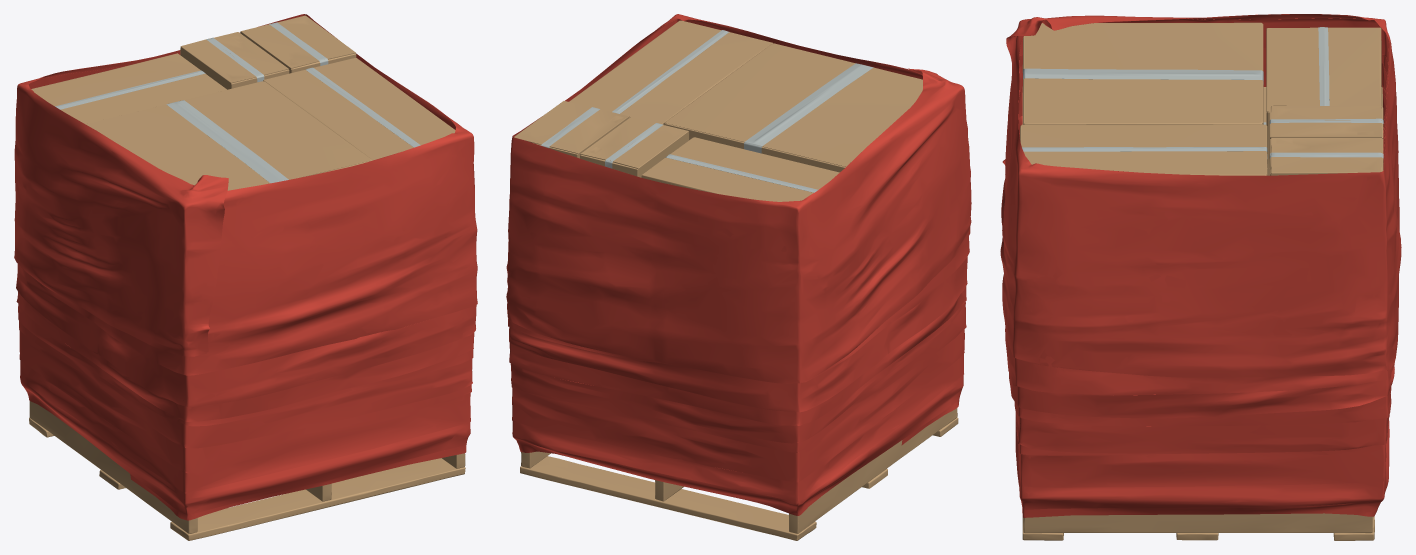
The model's file is pallet_assembly_red_a05.glb.
The picture shows the model from 3 angles, left to right: view 1: azimuth 30°, elevation 25°; view 2: azimuth 150°, elevation 25°; view 3: azimuth 270°, elevation 25°; orthographic projection. The views are drawn at different scales.
Size of the model in its own units: 1.01 by 1.09 by 1.02.
